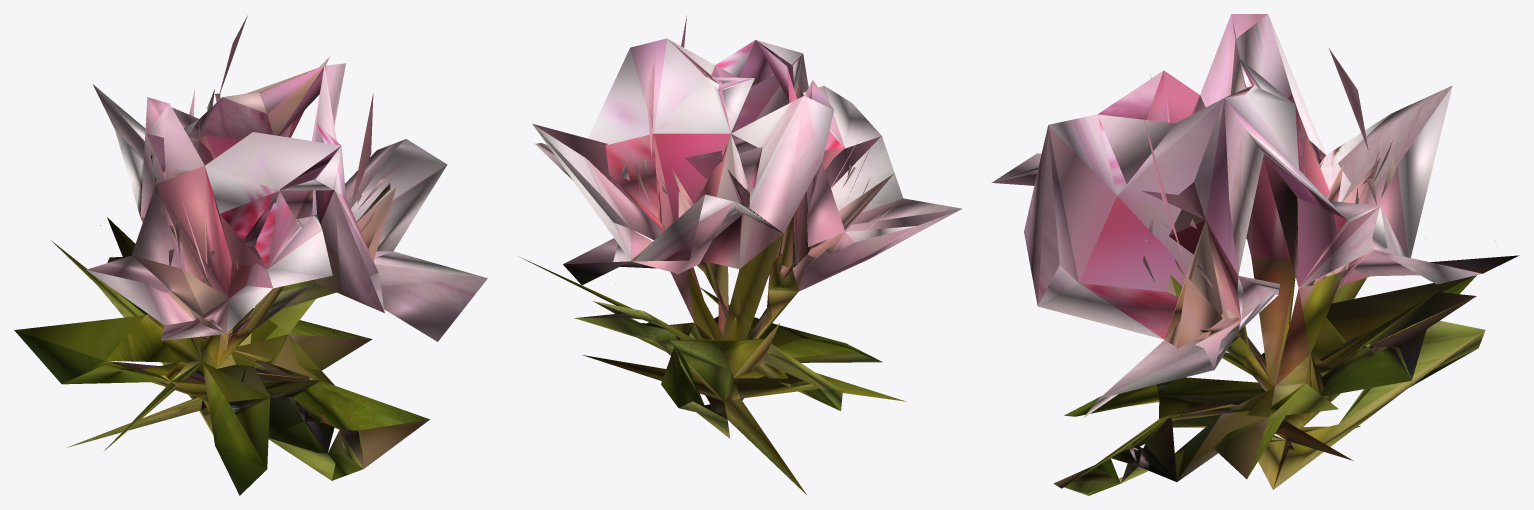
Rendered from azalea_lod1.glb.
The picture shows the model from 3 angles, left to right: view 1: azimuth 30°, elevation 25°; view 2: azimuth 150°, elevation 25°; view 3: azimuth 270°, elevation 25°; orthographic projection. The views are drawn at different scales.
Visible parts, largest first — view 1: AzaleaSprig; view 2: AzaleaSprig; view 3: AzaleaSprig.
Part boxes in pixels (<box>): AzaleaSprig: <box>14,15,487,495</box>; AzaleaSprig: <box>521,15,962,494</box>; AzaleaSprig: <box>991,14,1519,495</box>.
Size of the model in its own units: 0.1461 by 0.1494 by 0.1501.
Materials: 3 (3 with a texture image).
